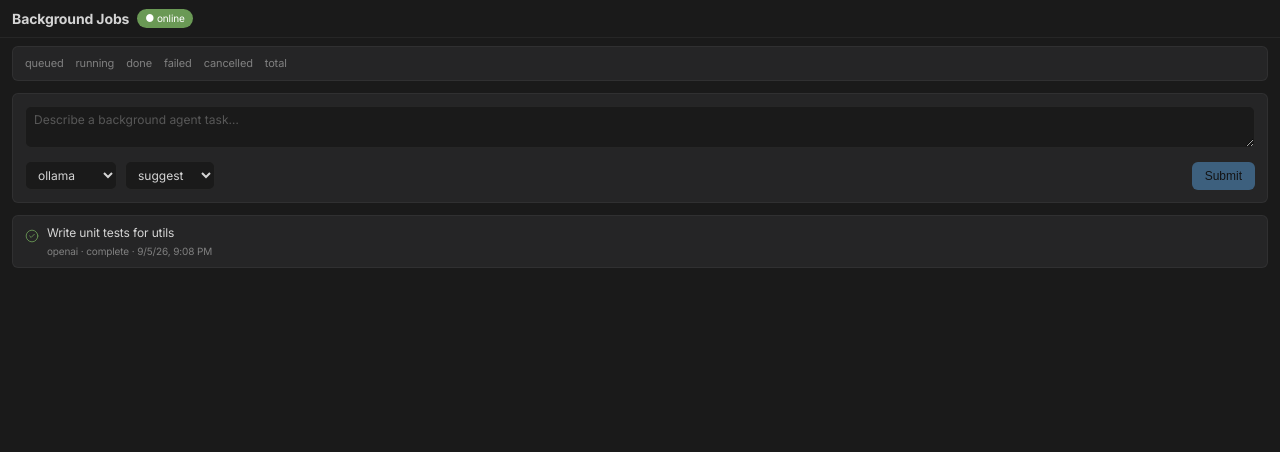
Test case: Given a completed job has a recap › When the recap loads, Then the headline replaces the bare summary
Click the text "Write unit tests for utils": (111, 232) x1=47 y1=225 x2=174 y2=240
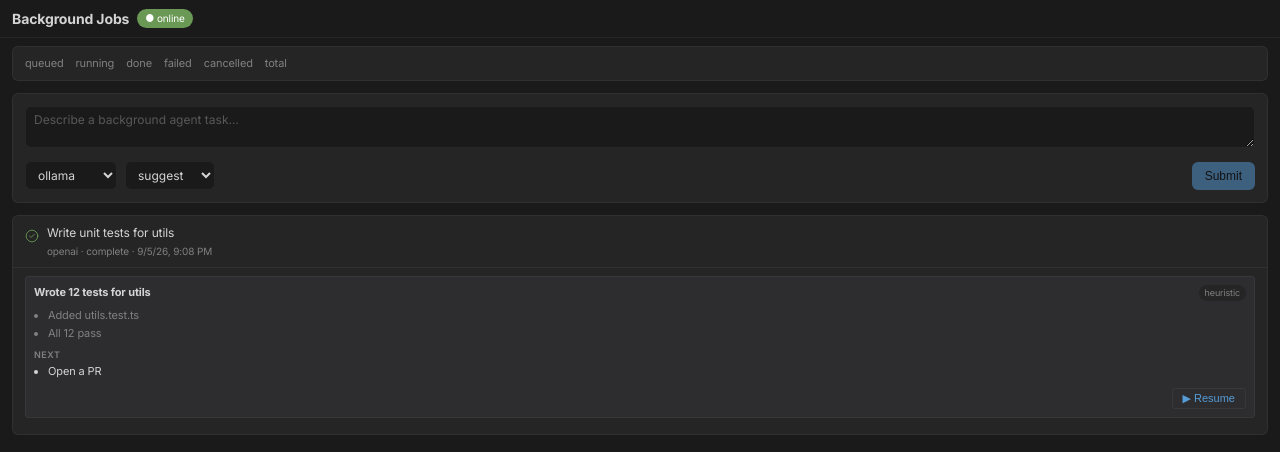
Expected: the text "Wrote 12 tests for utils" is shown, x1=34 y1=285 x2=151 y2=299
Expected: the list item "Added utils.test.ts" is shown, x1=48 y1=308 x2=139 y2=322
Expected: the list item "Open a PR" is shown, x1=48 y1=364 x2=101 y2=378
